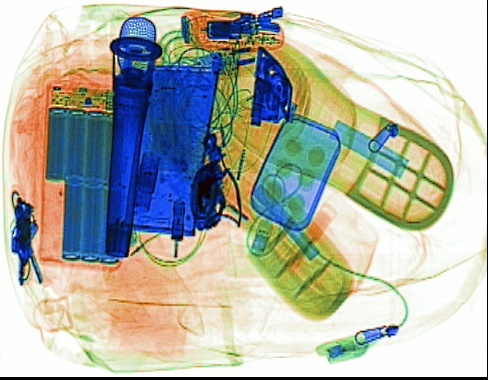powerbank: (35, 75, 129, 270)
